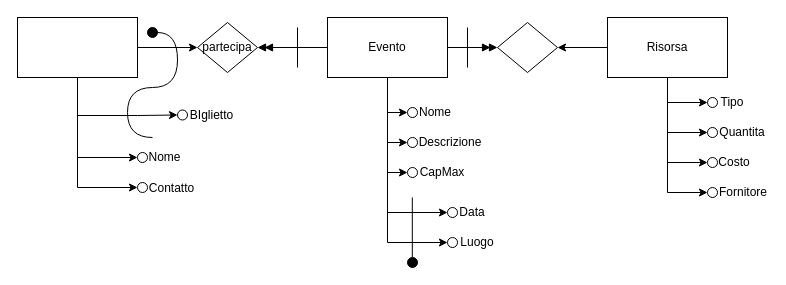
Some shapes in this 786 by 285 pixel diagram are drawn without their labels. The centre of each missing label's shape, as x and y in pixels:
"contiene" belongs at pixel 527 47.
"Partecipante" belongs at pixel 77 47.
